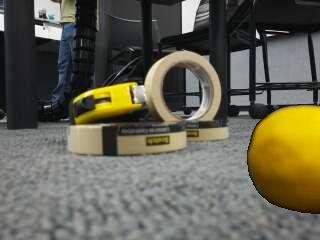lemon: (249, 106, 320, 214)
